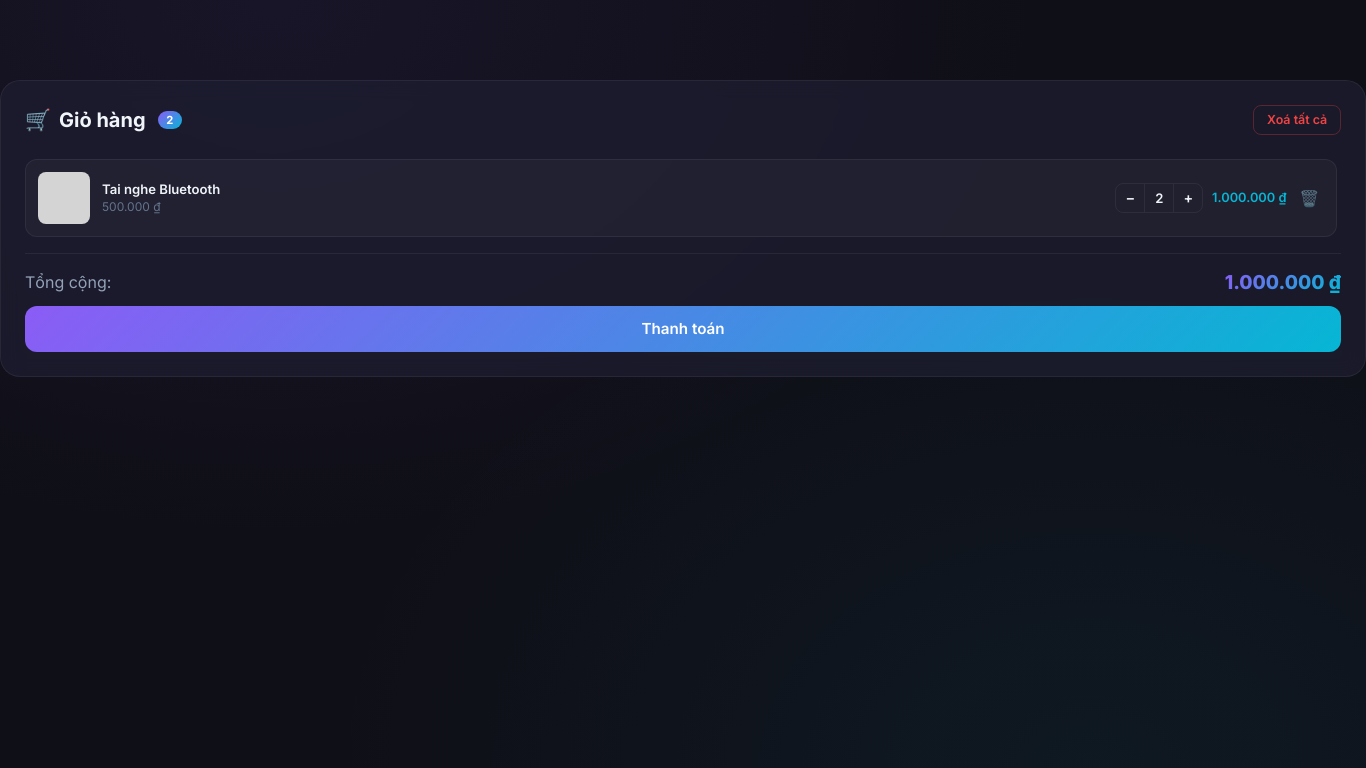
Test case: Cart Component (Integration) › TC25: clicking remove button should remove item from cart
Expected: the heading "Tai nghe Bluetooth" is shown, [102, 181, 220, 197]
Click the button named "Xoá" at coordinates (1309, 198), box [1294, 183, 1324, 213]
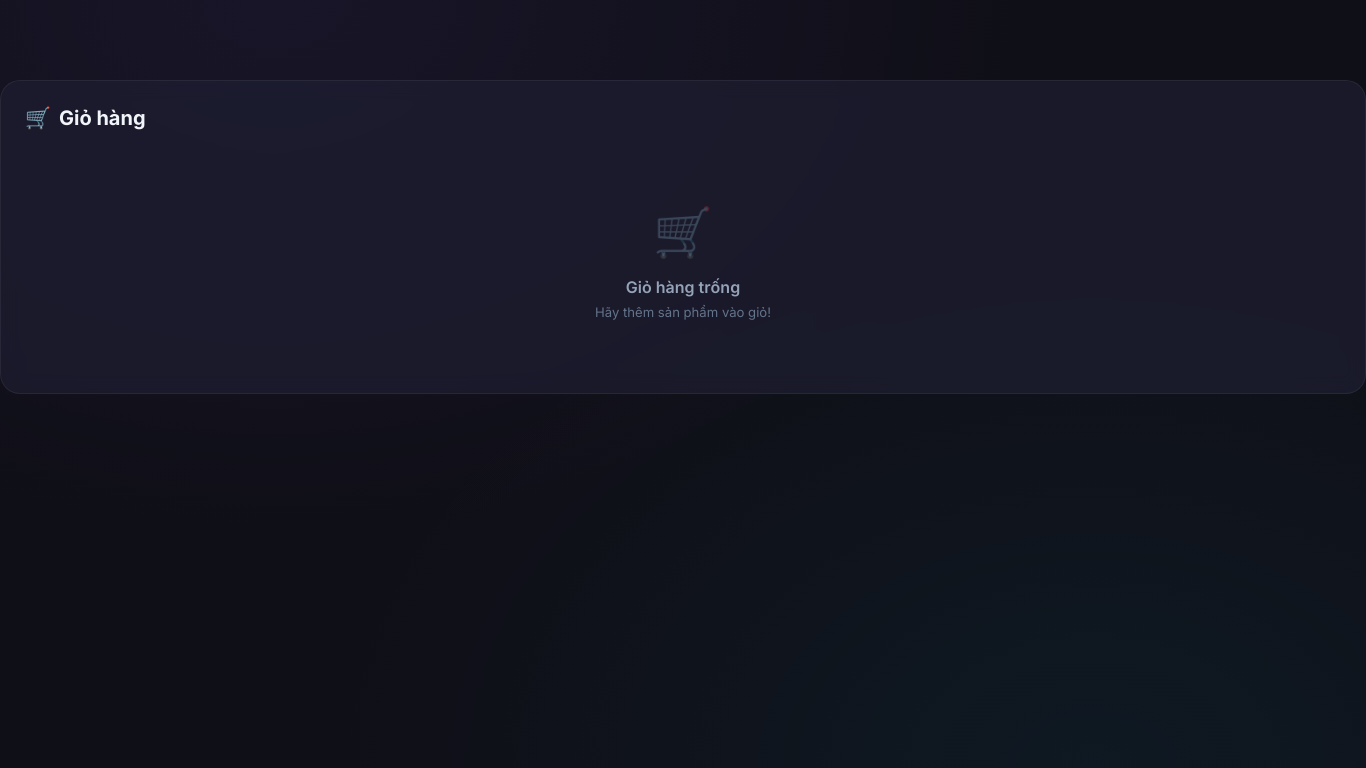
Expected: the text "Giỏ hàng trống" is shown, [626, 277, 740, 297]
